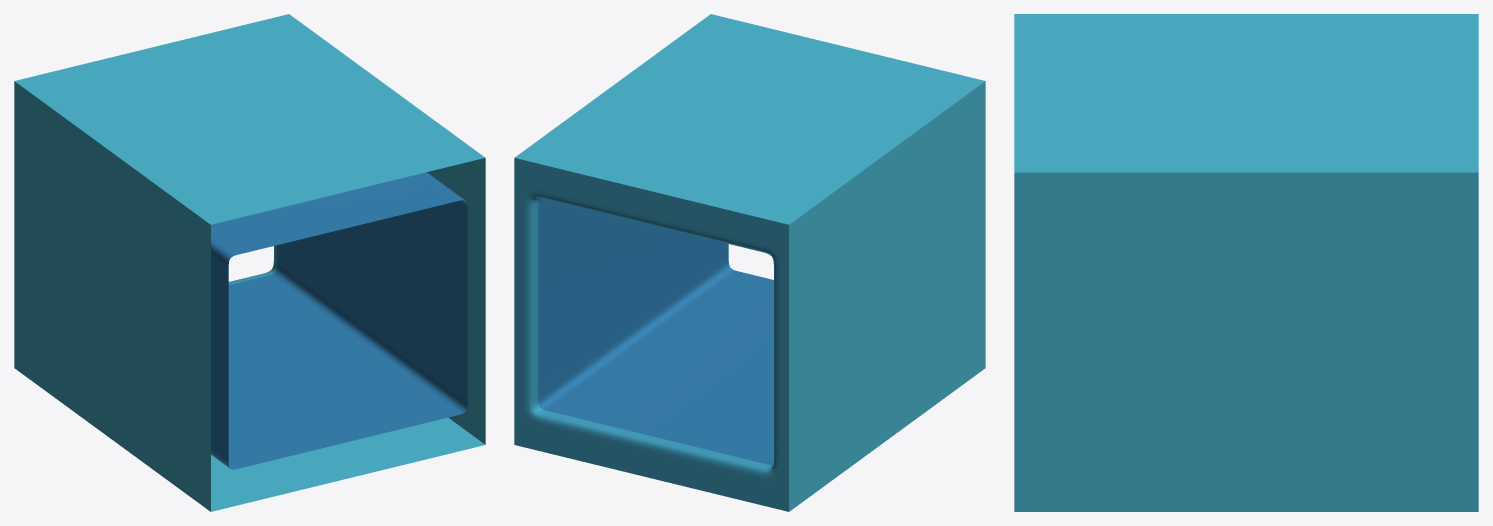
File: Platform-4.fbx
The picture shows the model from 3 angles, left to right: view 1: azimuth 30°, elevation 25°; view 2: azimuth 150°, elevation 25°; view 3: azimuth 270°, elevation 25°; orthographic projection. The views are drawn at different scales.
Visible parts, largest first — view 1: Platform-4; view 2: Platform-4; view 3: Platform-4.
Part boxes in pixels (x1,y1,x2,y2): Platform-4: (14,14,485,511); Platform-4: (514,14,985,511); Platform-4: (1014,14,1478,511).
Bounding box in the file's own units: 400 × 400 × 496.
